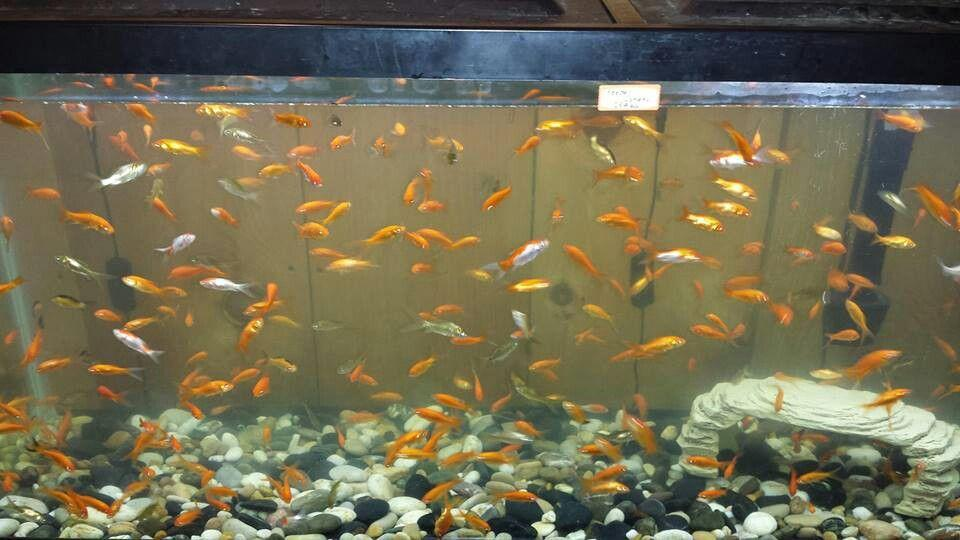fish: (477, 227, 559, 290), (388, 305, 479, 347), (873, 102, 945, 150), (206, 166, 270, 214), (622, 328, 691, 372), (705, 166, 771, 208), (474, 172, 526, 224), (505, 298, 544, 363), (688, 316, 757, 351), (589, 164, 655, 200), (319, 255, 394, 285), (669, 202, 728, 238), (579, 131, 625, 176), (302, 312, 360, 346), (306, 195, 354, 235), (479, 330, 523, 373), (700, 307, 738, 356), (696, 194, 754, 226), (412, 403, 465, 437), (282, 159, 334, 190), (421, 131, 473, 160), (253, 160, 303, 188), (399, 253, 442, 284), (424, 135, 463, 166), (232, 169, 272, 194), (684, 272, 711, 309), (730, 235, 772, 257)
